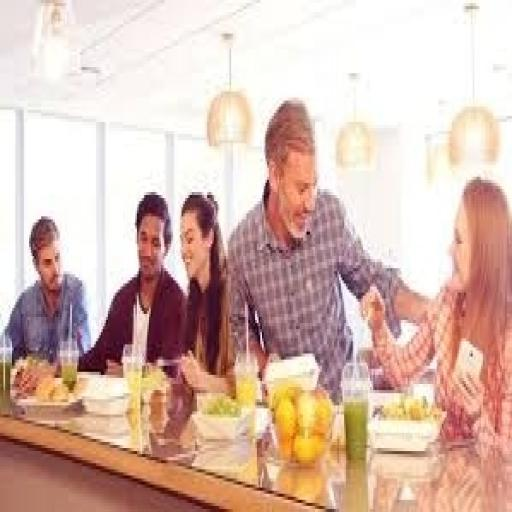eating: (224, 94, 440, 402), (79, 189, 188, 375), (4, 210, 92, 369), (175, 186, 236, 396)
